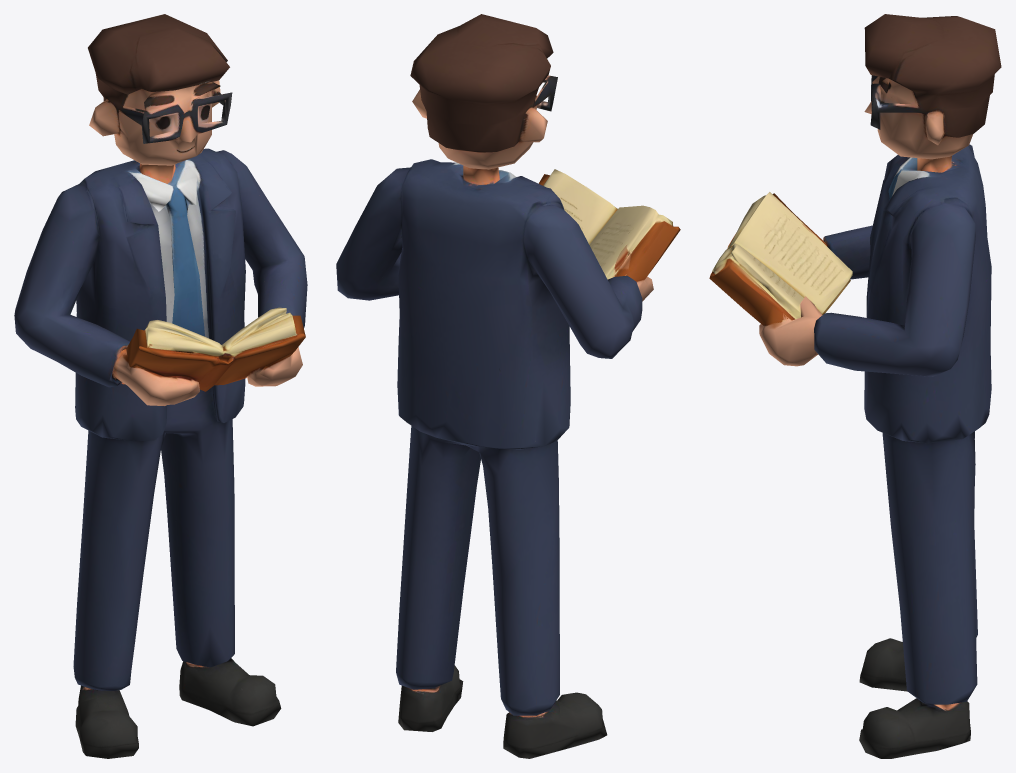
The model's file is teacher 3d model.glb.
3 renders of one model, left to right at view 1: azimuth 30°, elevation 25°; view 2: azimuth 150°, elevation 25°; view 3: azimuth 270°, elevation 25°, orthographic.
Visible parts, largest first — view 1: tripo_node_d0f502a7-5c0c-4deb-b158-e28a536e45b1; view 2: tripo_node_d0f502a7-5c0c-4deb-b158-e28a536e45b1; view 3: tripo_node_d0f502a7-5c0c-4deb-b158-e28a536e45b1.
Boxes of the visible parts, x1,y1,x2,y2 form: tripo_node_d0f502a7-5c0c-4deb-b158-e28a536e45b1: (14, 14, 307, 758); tripo_node_d0f502a7-5c0c-4deb-b158-e28a536e45b1: (336, 14, 680, 758); tripo_node_d0f502a7-5c0c-4deb-b158-e28a536e45b1: (709, 14, 1001, 758).
Bounding box in the file's own units: 0.4192 × 0.9815 × 0.3751.
Materials: 1 (1 with a texture image).
